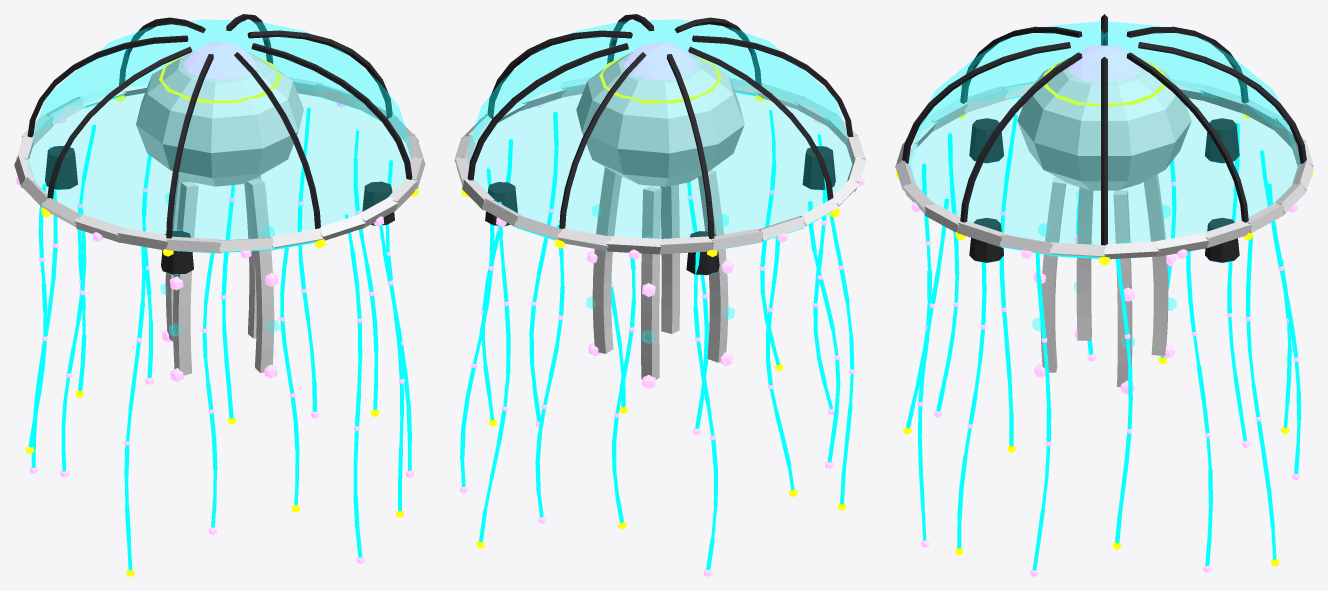
Rendered from JellyfishDreadnought.fbx.
3 renders of one model, left to right at view 1: azimuth 30°, elevation 25°; view 2: azimuth 150°, elevation 25°; view 3: azimuth 270°, elevation 25°, orthographic.
Visible parts, largest first — view 1: Jelly_BellShell, Jelly_InnerCore, Jelly_Rim, Jelly_Arm3, Jelly_Arm2, Jelly_Brain, Jelly_Rib7, Jelly_Tendril11, Jelly_Tendril8, Jelly_Rib0, Jelly_Rib3, Jelly_Rib4 (+21 smaller); view 2: Jelly_BellShell, Jelly_InnerCore, Jelly_Rim, Jelly_Arm1, Jelly_Arm0, Jelly_Arm2, Jelly_Arm3, Jelly_Brain, Jelly_Rib1, Jelly_Tendril2, Jelly_Tendril13, Jelly_Tendril5 (+20 smaller); view 3: Jelly_BellShell, Jelly_InnerCore, Jelly_Rim, Jelly_Arm1, Jelly_Arm3, Jelly_Arm0, Jelly_Arm2, Jelly_Brain, Jelly_Rib7, Jelly_Rib1, Jelly_Rib2, Jelly_Rib6 (+20 smaller).
Part boxes in pixels (x1,y1,x2,y2): Jelly_BellShell: [28, 19, 411, 239]; Jelly_InnerCore: [136, 51, 303, 186]; Jelly_Rim: [14, 77, 425, 253]; Jelly_Arm3: [247, 178, 274, 373]; Jelly_Arm2: [173, 181, 198, 375]; Jelly_Brain: [183, 41, 257, 80]; Jelly_Rib7: [251, 43, 412, 179]; Jelly_Tendril11: [345, 214, 362, 557]; Jelly_Tendril8: [124, 246, 146, 570]; Jelly_Rib0: [247, 30, 392, 118]; Jelly_Rib3: [27, 35, 188, 137]; Jelly_Rib4: [47, 47, 192, 198]; Jelly_BellShell: [468, 19, 852, 238]; Jelly_InnerCore: [576, 51, 744, 186]; Jelly_Rim: [454, 76, 866, 254]; Jelly_Arm1: [641, 186, 661, 379]; Jelly_Arm0: [592, 167, 621, 353]; Jelly_Arm2: [698, 170, 728, 362]; Jelly_Arm3: [660, 184, 679, 333]; Jelly_Brain: [623, 41, 697, 80]; Jelly_Rib1: [467, 43, 628, 180]; Jelly_Tendril2: [479, 201, 510, 542]; Jelly_Tendril13: [529, 112, 558, 421]; Jelly_Tendril5: [693, 252, 717, 570]; Jelly_BellShell: [908, 21, 1300, 244]; Jelly_InnerCore: [1017, 57, 1191, 190]; Jelly_Rim: [895, 79, 1313, 259]; Jelly_Arm1: [1143, 174, 1168, 355]; Jelly_Arm3: [1040, 177, 1066, 372]; Jelly_Arm0: [1113, 190, 1132, 387]; Jelly_Arm2: [1076, 187, 1093, 340]; Jelly_Brain: [1068, 45, 1140, 82]; Jelly_Rib7: [960, 52, 1082, 222]; Jelly_Rib1: [1126, 52, 1248, 222]; Jelly_Rib2: [1138, 42, 1306, 163]; Jelly_Rib6: [902, 42, 1070, 163].
Bounding box in the file's own units: 2.64 × 3.34 × 2.64.
